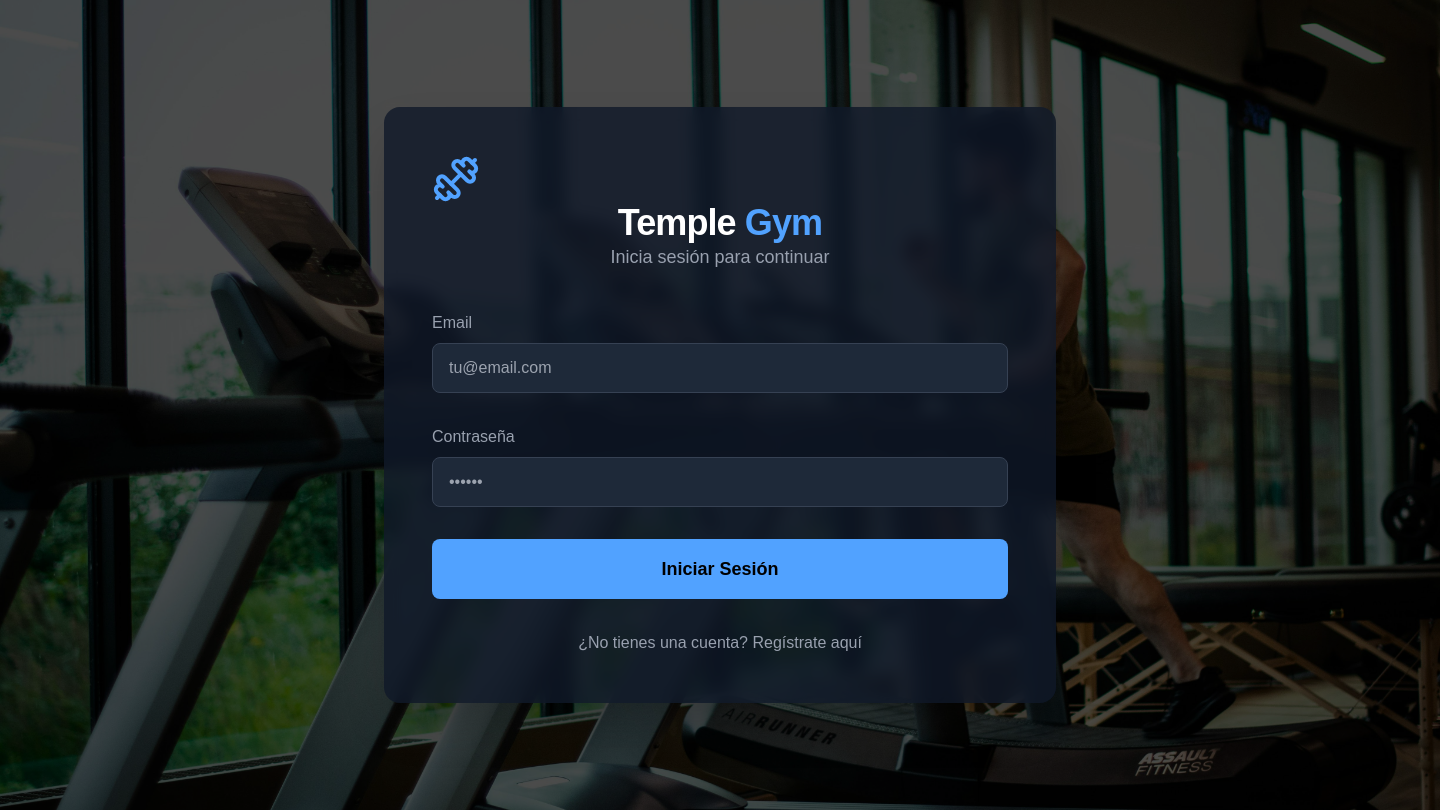
Test: LoginForm › Validation Logic › should show error when password is empty
The width and height of the screenshot is (1440, 810).
In the field labelled "Email": (720, 368) [432, 343, 1008, 393], type "test@example.com"
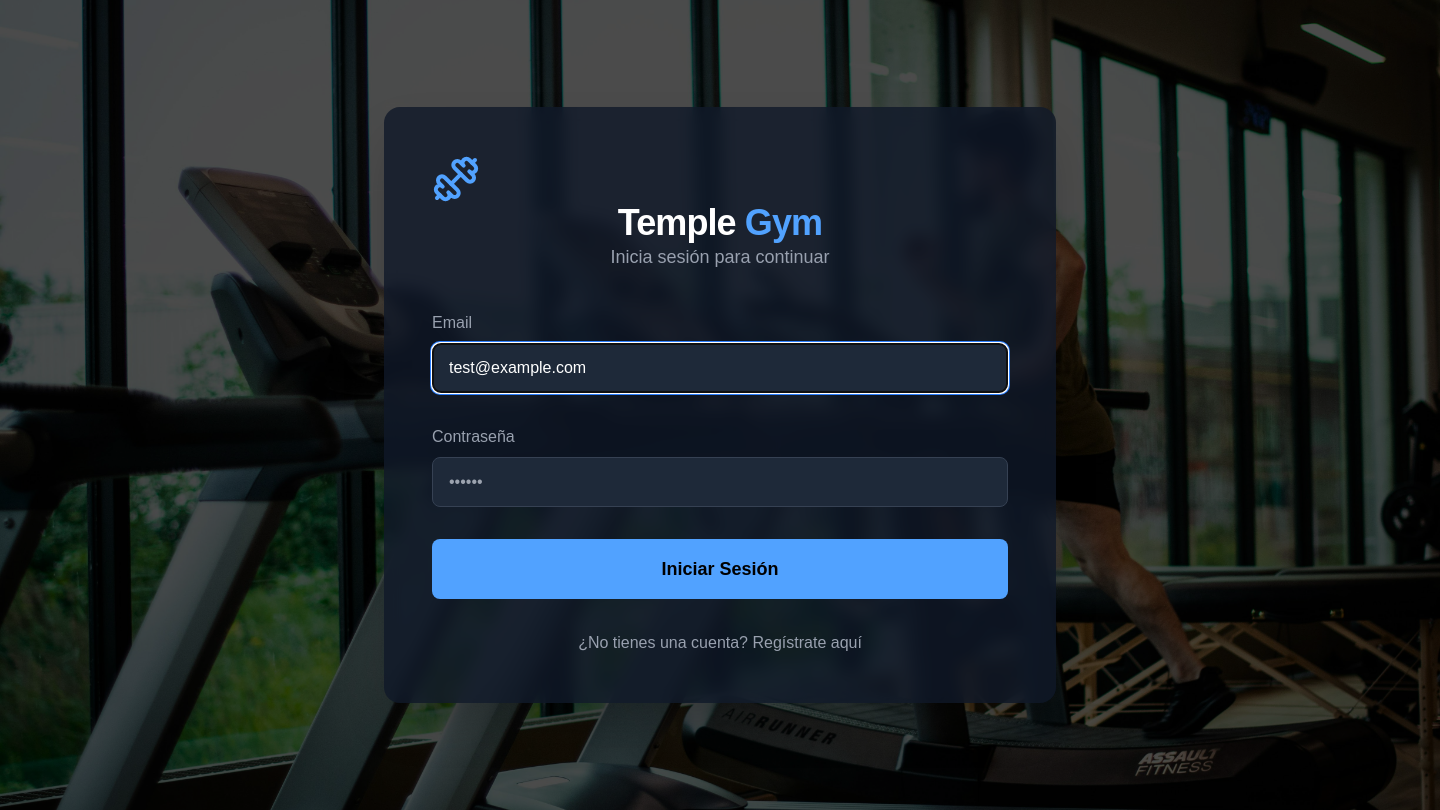
Click the button "Iniciar Sesión": click(720, 569) [432, 539, 1008, 599]
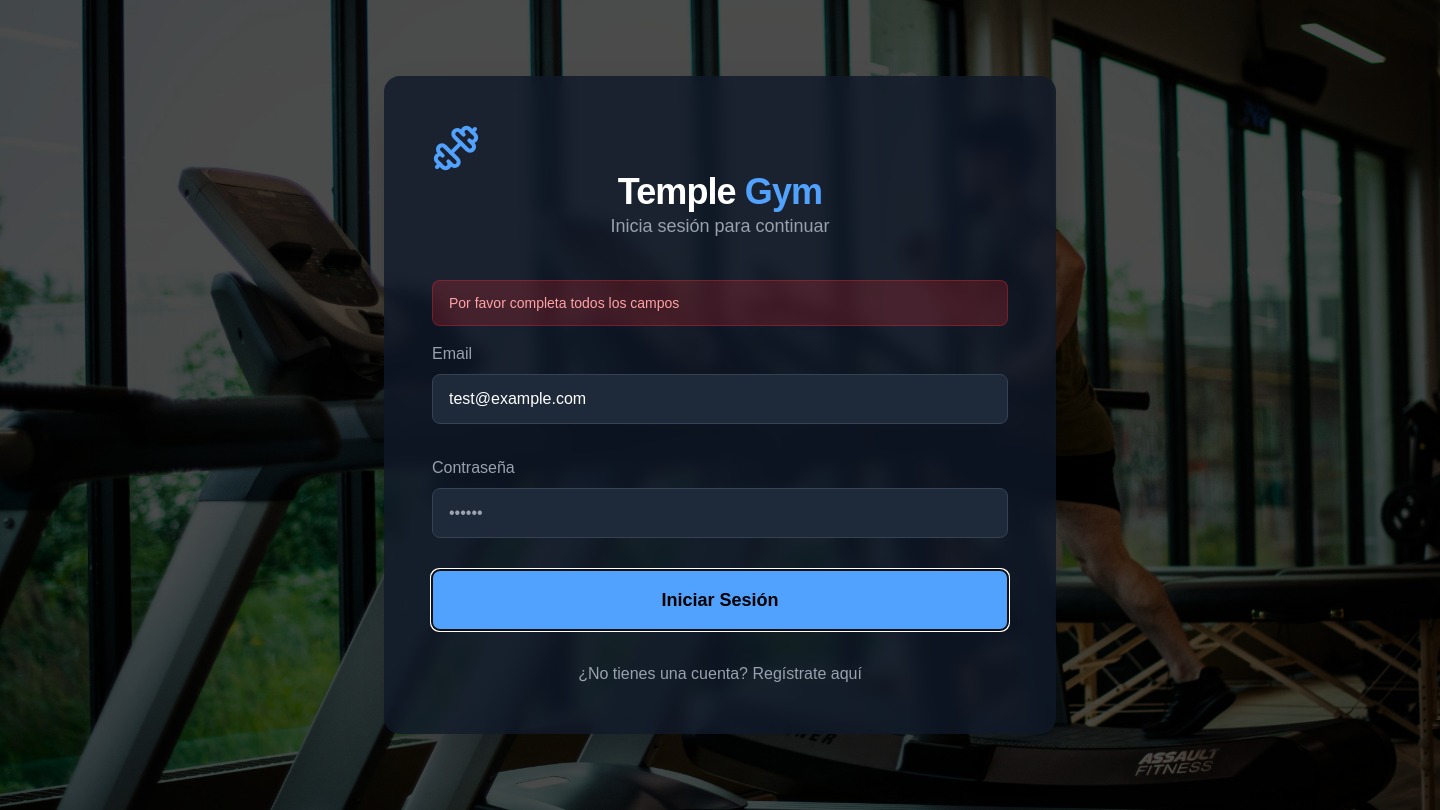
Expected: the text "Por favor completa todos los campos" is shown, [432, 280, 1008, 326]
